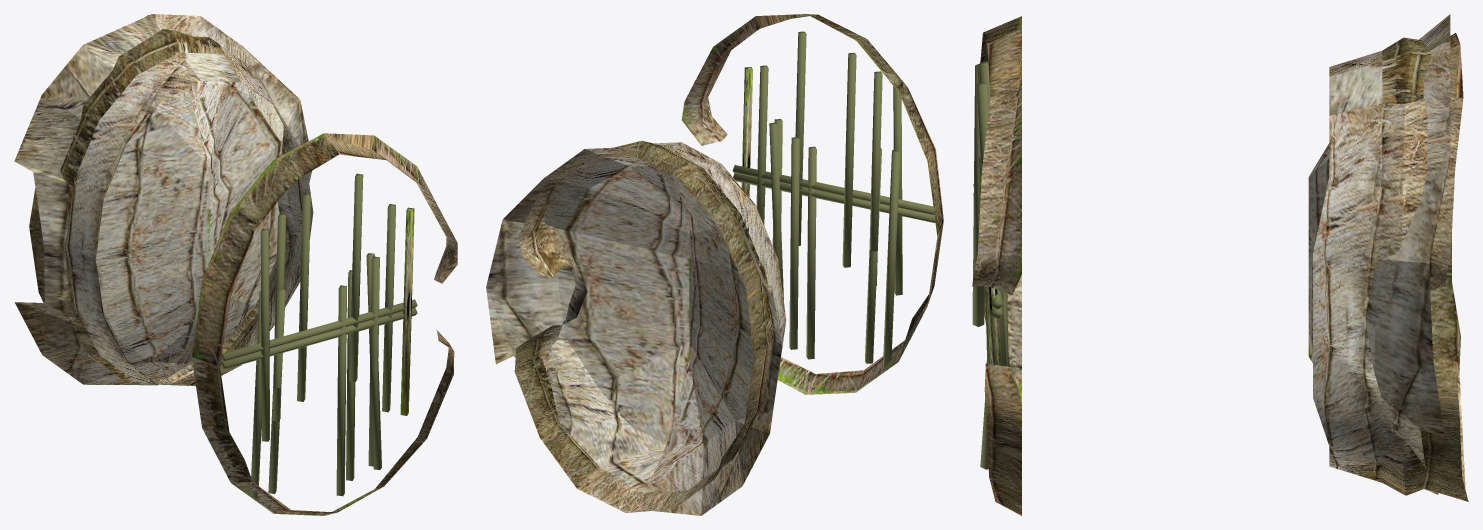
File: hut_000001.obj
3 views of the same model, side by side, from view 1: azimuth 30°, elevation 25°; view 2: azimuth 150°, elevation 25°; view 3: azimuth 270°, elevation 25° (orthographic). The views are drawn at different scales.
Parts seen in each view (by area): view 1: Sphere.003, Sphere.002, Sphere.004, Sphere.007, Sphere.008, Sphere.006, Sphere.005, Sphere.001, Sphere, Cylinder.005, Cylinder.010_Cylinder.011, Cylinder.007 (+11 smaller); view 2: Sphere, Sphere.005, Sphere.001, Sphere.008, Sphere.006, Sphere.002, Sphere.003, Sphere.007, Sphere.004, Cylinder.001, Cylinder.006, Cylinder (+11 smaller); view 3: Sphere.003, Sphere.002, Sphere.001, Sphere.005, Sphere.006, Cylinder.005, Sphere, Cylinder.010_Cylinder.011, Cylinder.009, Sphere.004.
Part boxes in pixels (<box>): Sphere.003: <box>60,30,313,386</box>; Sphere.002: <box>192,133,457,515</box>; Sphere.004: <box>14,14,209,210</box>; Sphere.007: <box>33,172,209,302</box>; Sphere.008: <box>15,269,206,385</box>; Sphere.006: <box>152,14,299,209</box>; Sphere.005: <box>209,100,311,261</box>; Sphere.001: <box>29,15,258,382</box>; Sphere: <box>167,251,276,378</box>; Cylinder.005: <box>260,228,269,441</box>; Cylinder.010_Cylinder.011: <box>400,207,414,415</box>; Cylinder.007: <box>336,285,346,496</box>; Sphere: <box>514,317,689,492</box>; Sphere.005: <box>486,219,689,363</box>; Sphere.001: <box>514,140,766,512</box>; Sphere.008: <box>644,317,773,515</box>; Sphere.006: <box>503,147,689,259</box>; Sphere.002: <box>682,14,943,394</box>; Sphere.003: <box>541,141,786,409</box>; Sphere.007: <box>689,259,782,409</box>; Sphere.004: <box>634,147,771,293</box>; Cylinder.001: <box>842,52,856,267</box>; Cylinder.006: <box>883,150,900,366</box>; Cylinder: <box>789,137,799,349</box>; Sphere.003: <box>1313,37,1411,495</box>; Sphere.002: <box>972,16,1021,515</box>; Sphere.001: <box>1401,33,1468,501</box>; Sphere.005: <box>1308,231,1444,437</box>; Sphere.006: <box>1308,39,1450,263</box>; Cylinder.005: <box>972,65,984,326</box>; Sphere: <box>1308,303,1437,494</box>; Cylinder.010_Cylinder.011: <box>979,174,1001,365</box>; Cylinder.009: <box>976,82,989,173</box>; Sphere.004: <box>1310,14,1450,174</box>.
Bounding box in the file's own units: 3.9 × 4.88 × 4.63.
